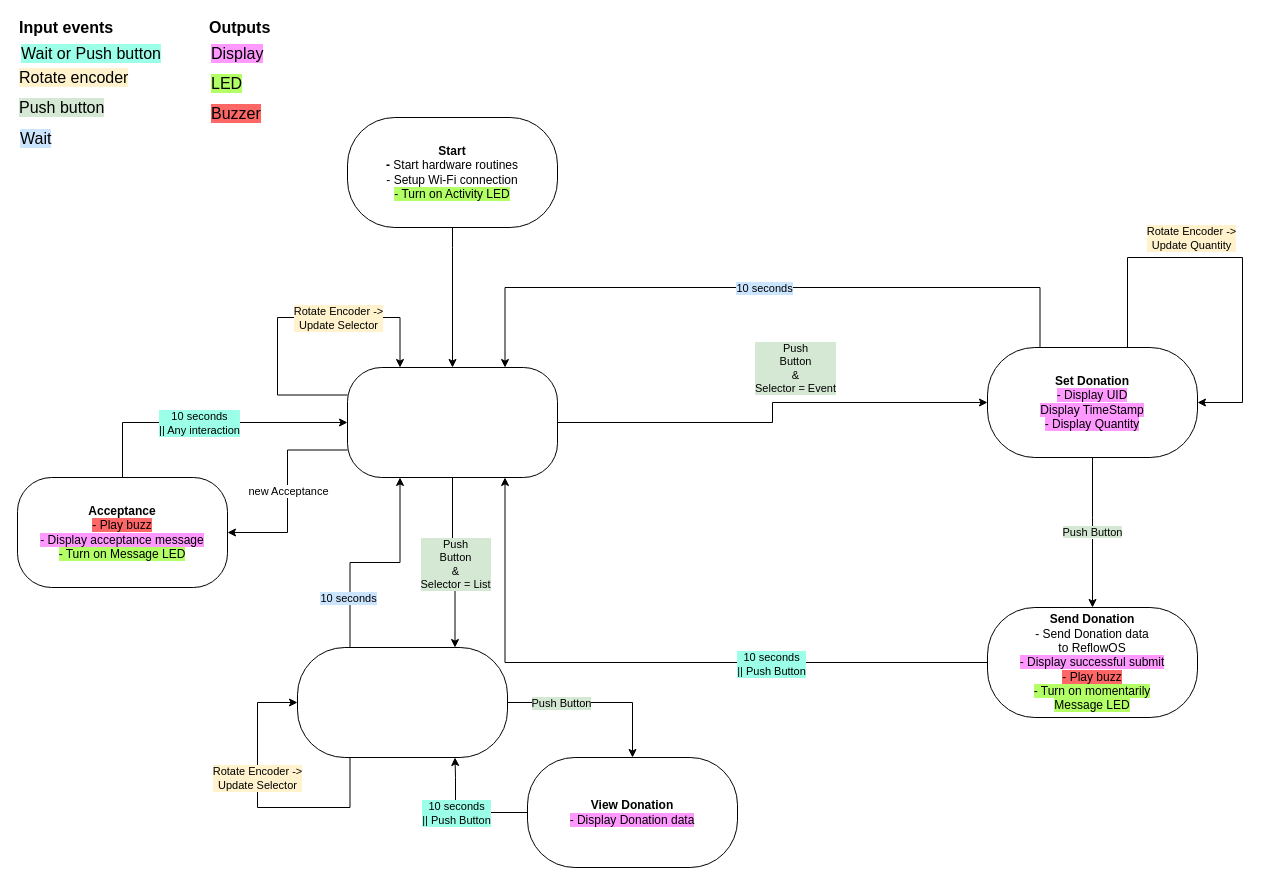
Image size: 1268x885. Some labels were removed from this diagram. Each missing label, with the centre of its shape:
"List - Get data from ReflowOS - Display List menu - Turn off Message LED" belongs at [402,702].
"Main - Display Main menu - Routinely send Query for new Acceptances" belongs at [452,422].
